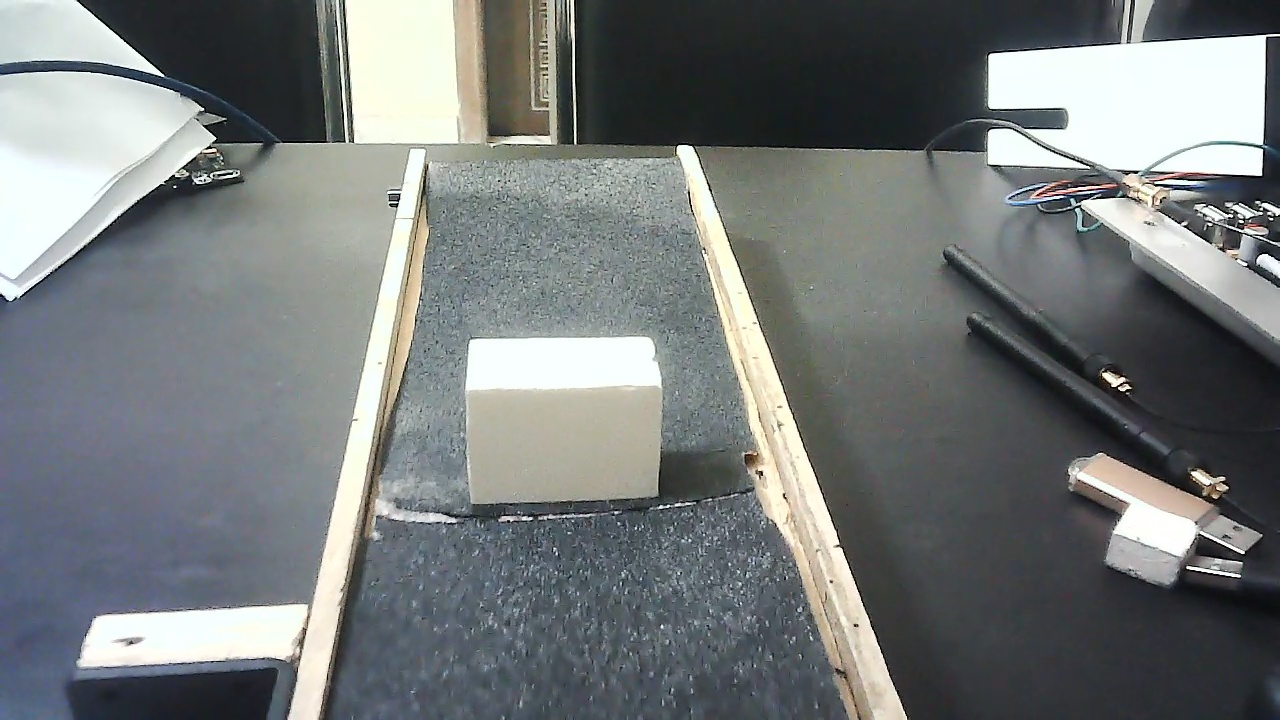BIG: (465, 318, 666, 519)
